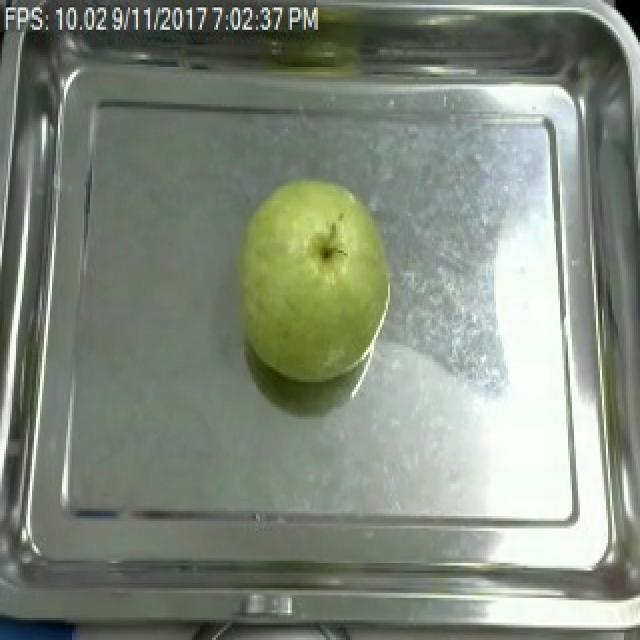Fruit: (226, 171, 400, 390)
